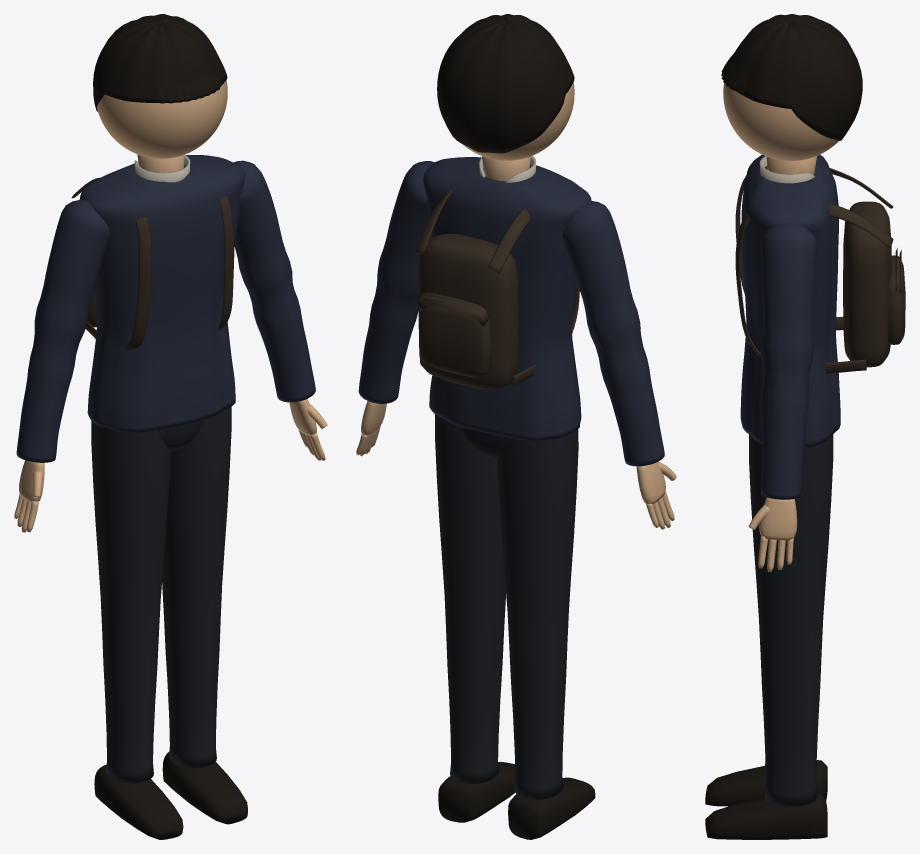
The model's file is classmate_v02.glb.
The picture shows the model from 3 angles, left to right: view 1: azimuth 30°, elevation 25°; view 2: azimuth 150°, elevation 25°; view 3: azimuth 270°, elevation 25°; orthographic projection. The views are drawn at different scales.
Parts seen in each view (by area): view 1: Classmate_Body, Classmate_Head, Classmate_Leg_R, Classmate_Leg_L, Classmate_Shin_R, Classmate_Shin_L, Classmate_Arm_R, Classmate_Arm_L, Classmate_Forearm_R, Classmate_Forearm_L, Classmate_Foot_R, Classmate_Foot_L (+2 smaller); view 2: Classmate_Body, Classmate_Head, Classmate_Leg_R, Classmate_Leg_L, Classmate_Shin_R, Classmate_Shin_L, Classmate_Arm_R, Classmate_Forearm_R, Classmate_Forearm_L, Classmate_Arm_L, Classmate_Foot_R, Classmate_Foot_L (+2 smaller); view 3: Classmate_Body, Classmate_Head, Classmate_Leg_L, Classmate_Shin_L, Classmate_Arm_L, Classmate_Forearm_L, Classmate_Foot_L, Classmate_Hand_L, Classmate_Foot_R.
Part boxes in pixels (x1,y1,x2,y2): Classmate_Body: (71, 154, 245, 450); Classmate_Head: (93, 14, 227, 158); Classmate_Leg_R: (91, 421, 170, 622); Classmate_Leg_L: (162, 406, 231, 607); Classmate_Shin_R: (101, 610, 159, 783); Classmate_Shin_L: (162, 594, 221, 767); Classmate_Arm_R: (34, 199, 109, 345); Classmate_Arm_L: (233, 160, 292, 297); Classmate_Forearm_R: (16, 335, 79, 462); Classmate_Forearm_L: (249, 283, 315, 402); Classmate_Foot_R: (94, 764, 183, 839); Classmate_Foot_L: (162, 752, 247, 824); Classmate_Body: (415, 155, 591, 459); Classmate_Head: (437, 14, 574, 160); Classmate_Leg_R: (497, 429, 578, 635); Classmate_Leg_L: (435, 414, 505, 620); Classmate_Shin_R: (508, 622, 568, 799); Classmate_Shin_L: (445, 607, 505, 783); Classmate_Arm_R: (562, 200, 641, 350); Classmate_Forearm_R: (595, 336, 664, 466); Classmate_Forearm_L: (358, 286, 418, 403); Classmate_Arm_L: (377, 161, 434, 300); Classmate_Foot_R: (508, 777, 595, 839); Classmate_Foot_L: (438, 761, 515, 822); Classmate_Body: (735, 154, 905, 447); Classmate_Head: (721, 14, 862, 160); Classmate_Leg_L: (749, 434, 833, 642); Classmate_Shin_L: (759, 630, 822, 806); Classmate_Arm_L: (760, 222, 817, 374); Classmate_Forearm_L: (761, 369, 809, 499); Classmate_Foot_L: (705, 793, 827, 839); Classmate_Hand_L: (748, 497, 797, 572); Classmate_Foot_R: (705, 760, 827, 806).
Size of the model in its own units: 0.7038 by 1.75 by 0.3985.
